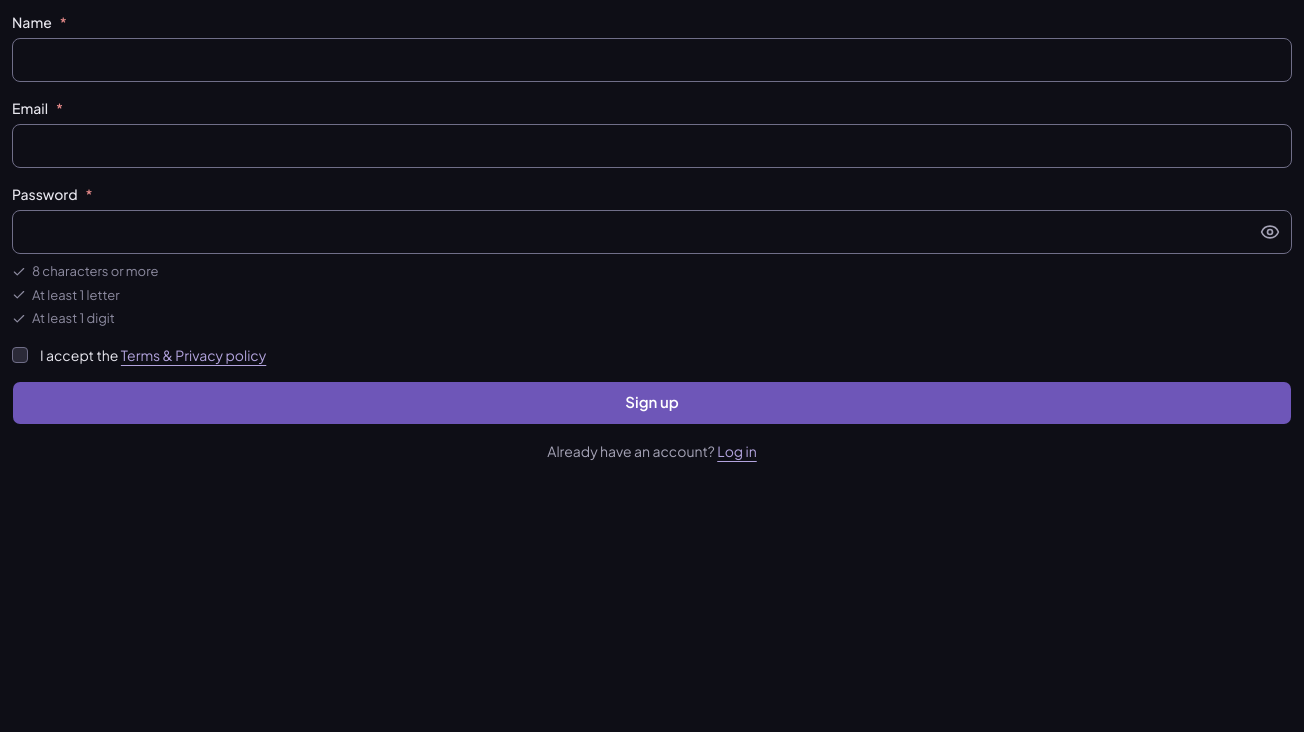
Test case: a backend error on email is shown under that field and nobody is logged in
Type "Mona Ali" into the field labelled "Name *" at {"x": 652, "y": 60}, box [12,38,1292,82]
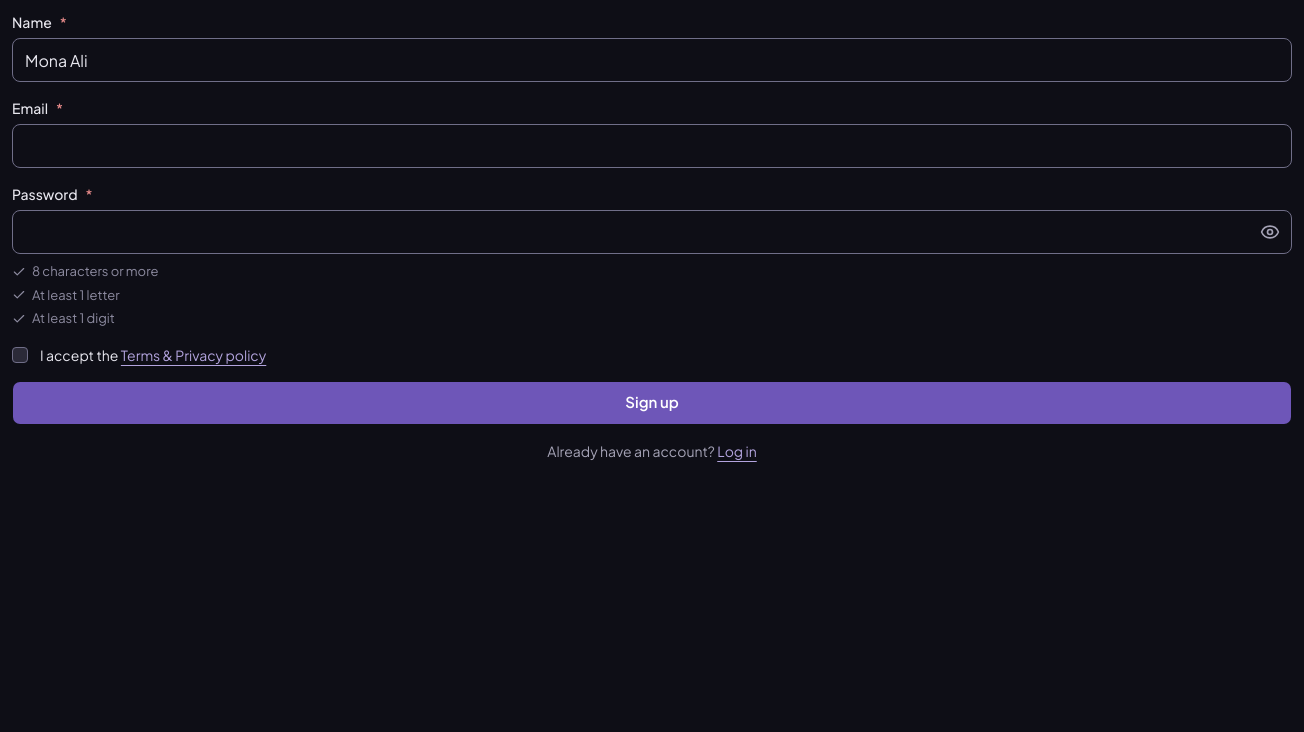
Type "mona@example.com" into the field labelled "Email *" at {"x": 652, "y": 146}, box [12,124,1292,168]
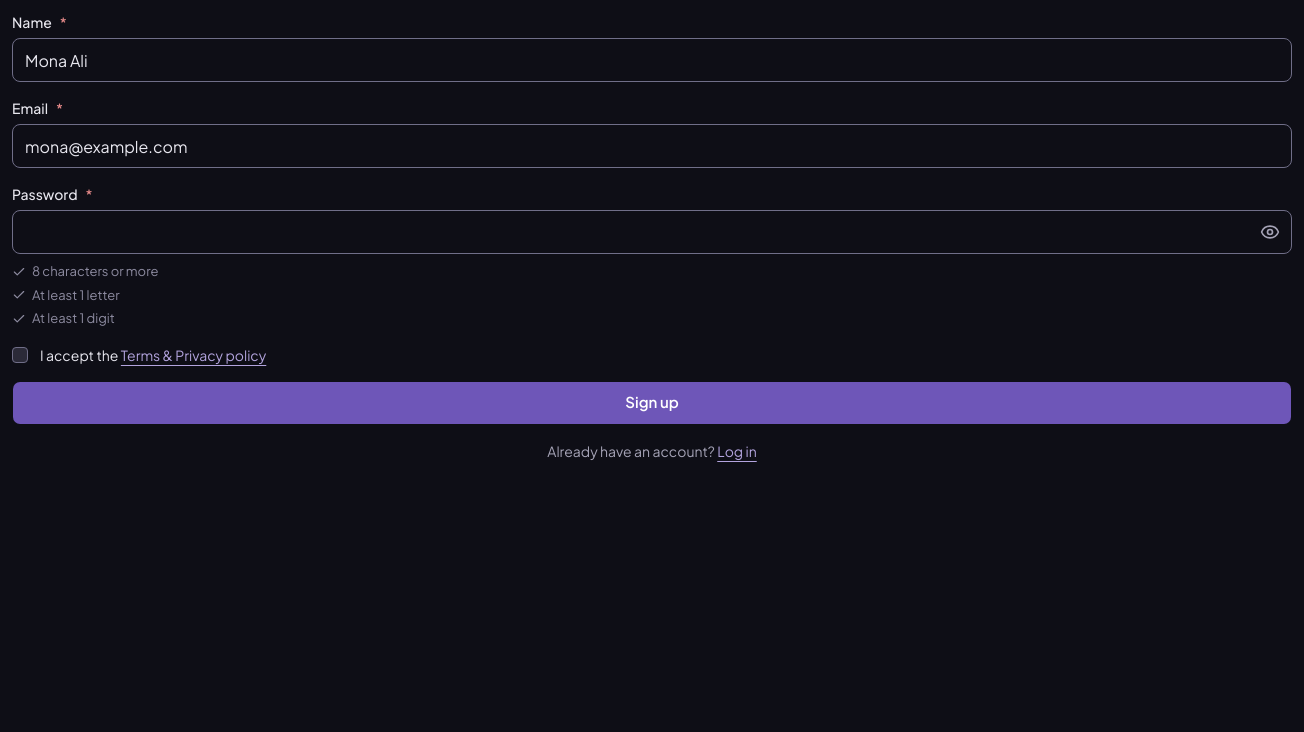
Type "Secret123" into the password field labelled "Password *" at {"x": 652, "y": 232}, box [12,210,1292,254]
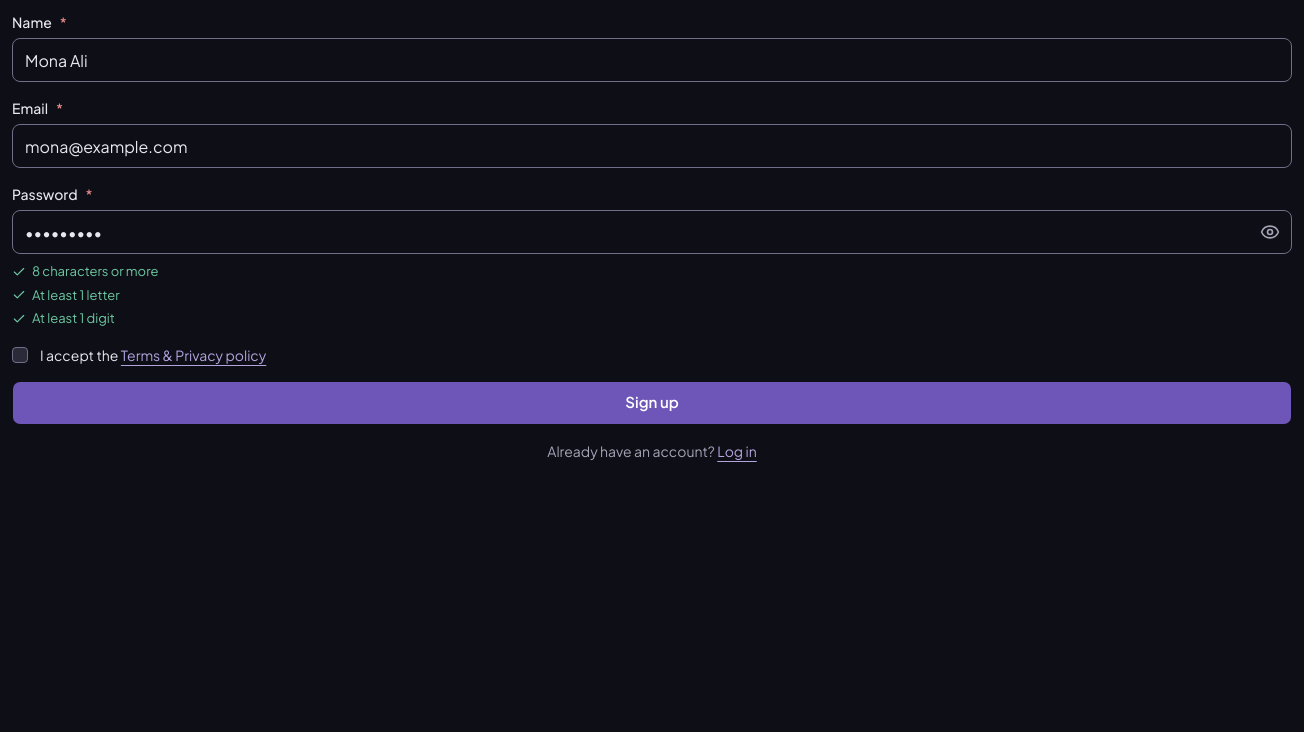
Click the checkbox at {"x": 20, "y": 354}, box [12,346,28,362]
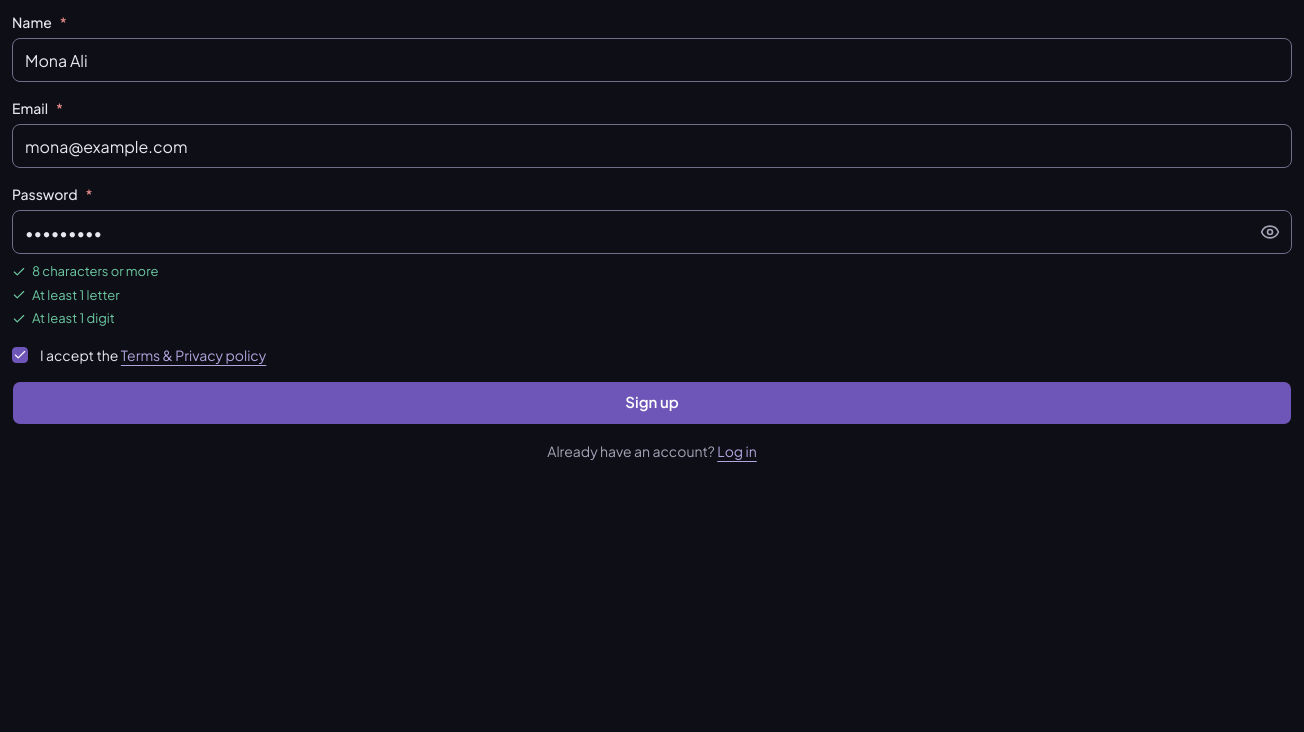
Click the button "Sign up" at {"x": 652, "y": 402}, box [12,380,1292,424]
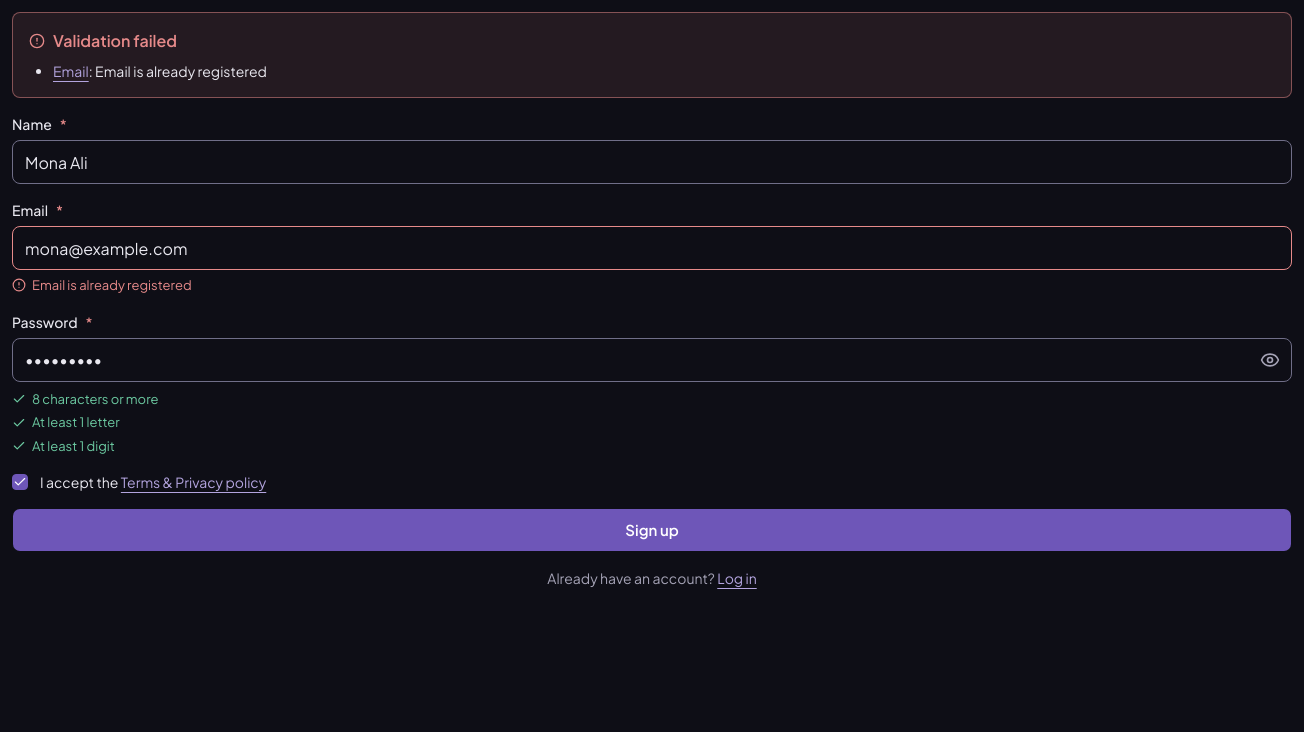
expect the message "Validation failed Email : Email is already registered" is shown: met, box [12,12,1292,98]
expect the element showing "Email is already registered" is shown: met, box [12,277,192,293]
